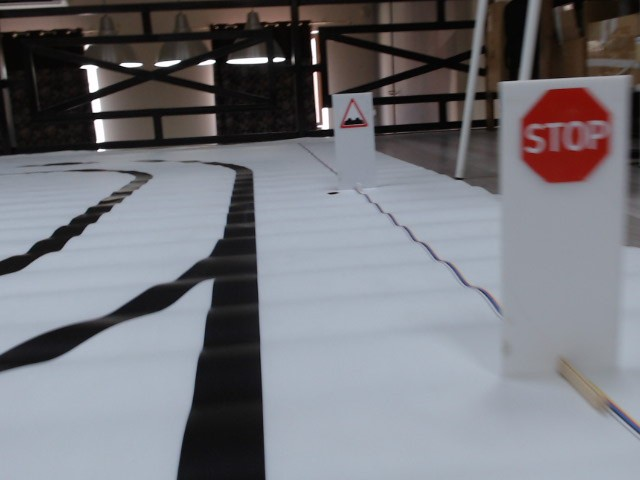Nerov: (341, 99, 369, 131)
Stop: (519, 88, 616, 184)
